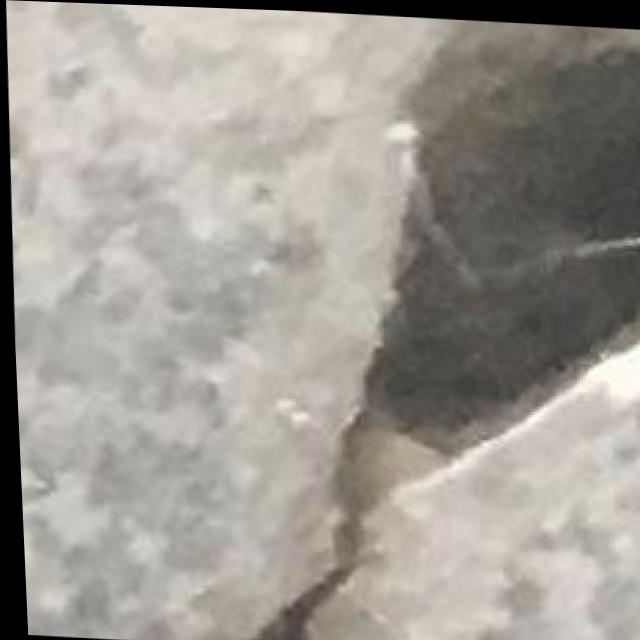Crack: (126, 194, 640, 639)
